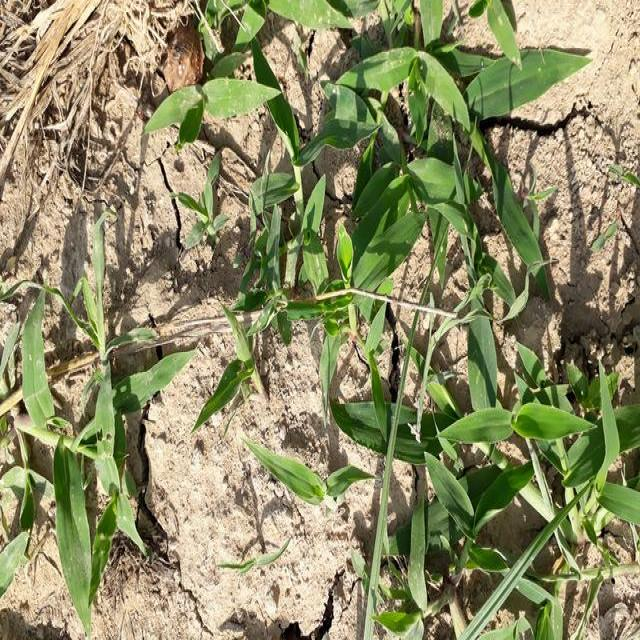weed: (328, 353, 639, 640), (276, 7, 538, 318), (16, 303, 141, 602), (136, 72, 284, 143), (246, 445, 371, 520), (157, 170, 239, 276), (204, 310, 258, 438)
